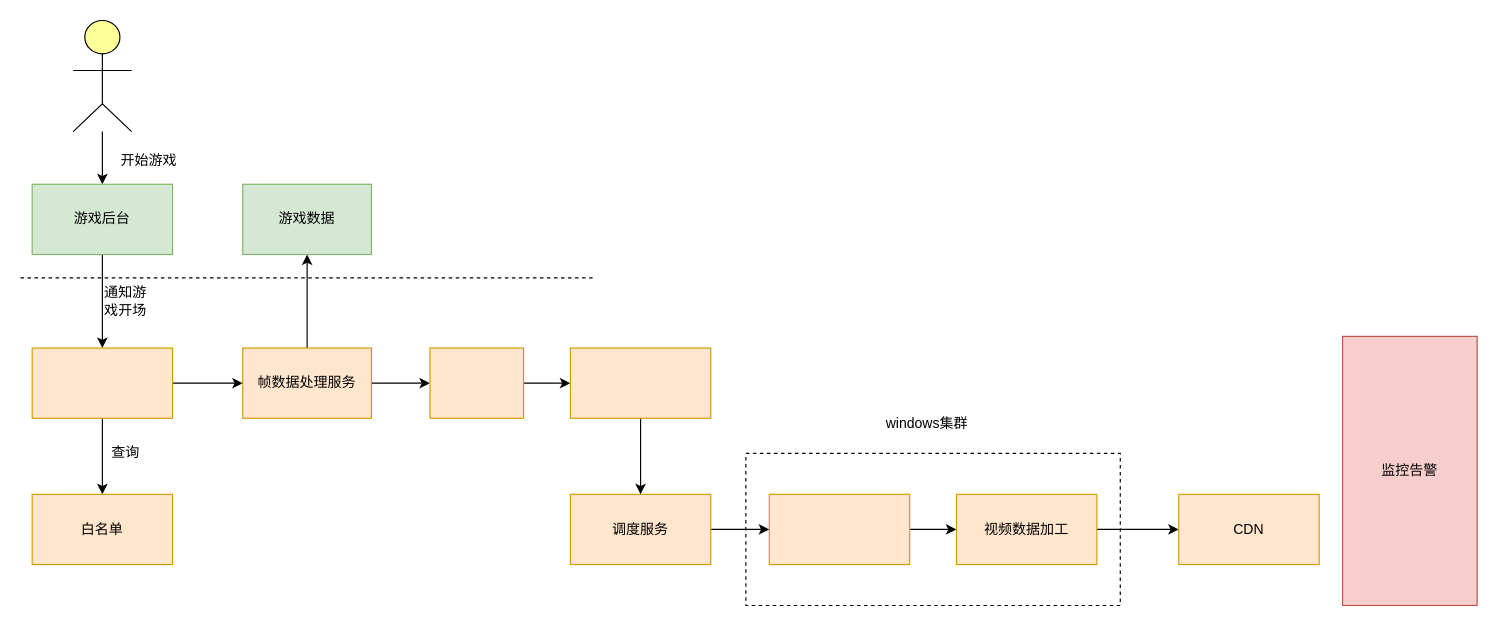
The diagram is 1498 pixels wide and 626 high, and some of its shapes have lost their labels. Here are the shapes that lost their labels. From the top down, the box of each, then its label:
(31, 347, 173, 418): web服务
(429, 347, 524, 418): MQ
(569, 347, 711, 418): 策略服务
(768, 493, 910, 565): 视频数据录制
